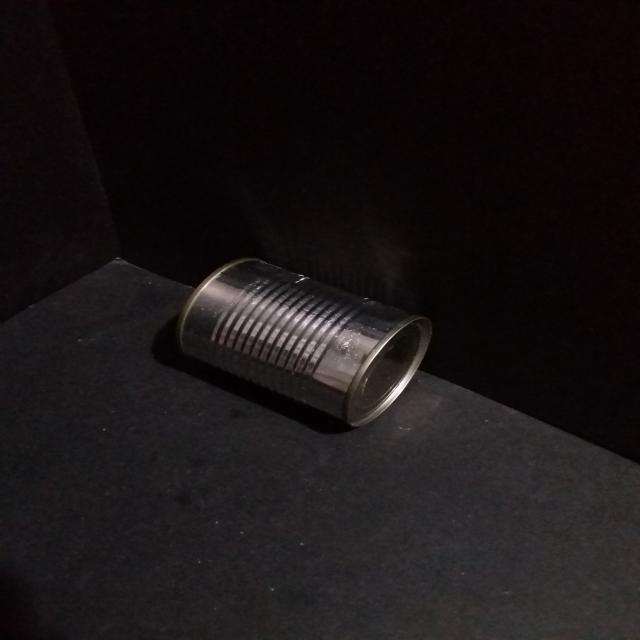metal-can: (172, 252, 436, 433)
